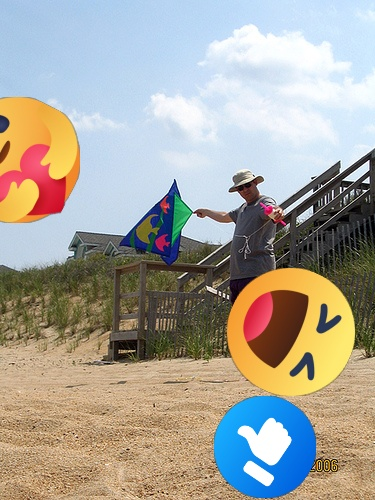care: (0, 97, 80, 223)
haha: (227, 268, 355, 396)
like: (214, 396, 316, 498)
